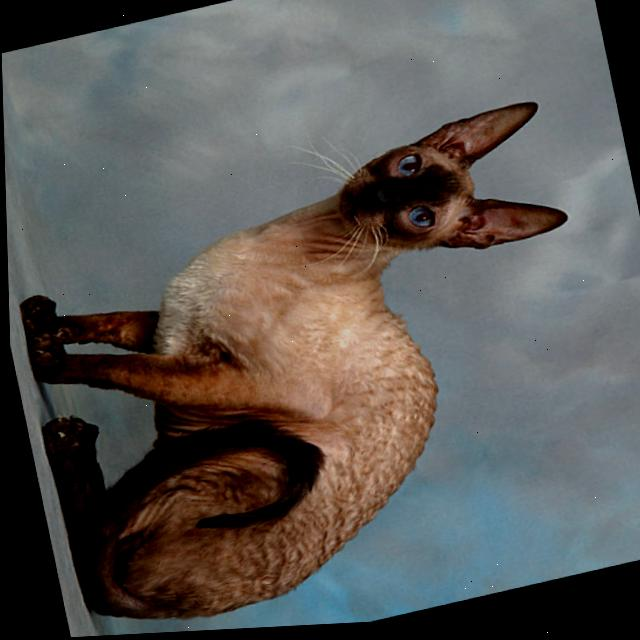Cornish Rex: (3, 93, 636, 640)
